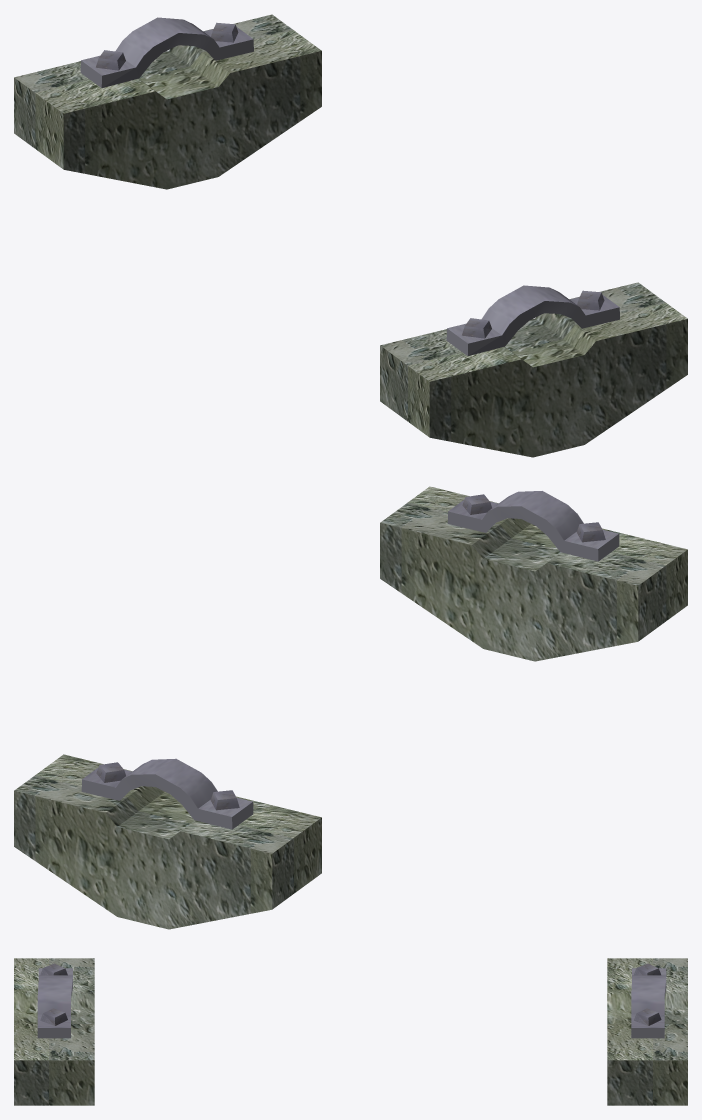
The model's file is P_Modul_08_Fix.obj.
3 renders of one model, top to bottom at view 1: azimuth 30°, elevation 25°; view 2: azimuth 150°, elevation 25°; view 3: azimuth 270°, elevation 25°, orthographic. The views are drawn at different scales.
Parts seen in each view (by area): view 1: P_Modul_08_Fix; view 2: P_Modul_08_Fix; view 3: P_Modul_08_Fix.
Part boxes in pixels (x1=…): P_Modul_08_Fix: x1=14, y1=14, x2=687, y2=457; P_Modul_08_Fix: x1=14, y1=486, x2=687, y2=929; P_Modul_08_Fix: x1=14, y1=958, x2=687, y2=1105.
Size of the model in its own units: 3 by 1.54 by 8.37.
